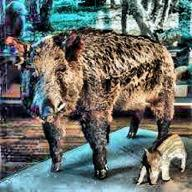boar: (4, 16, 159, 160), (134, 128, 186, 185)
